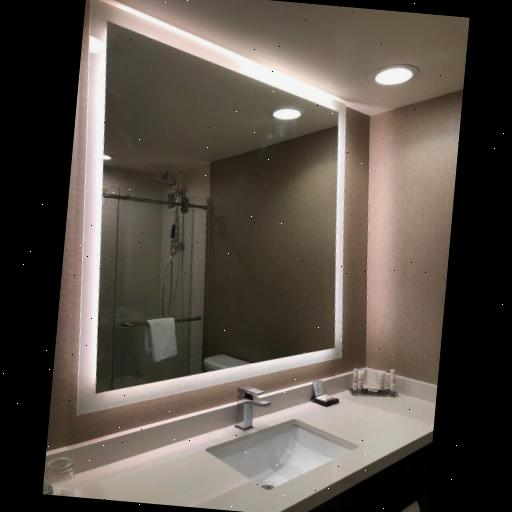clean_sink: (38, 360, 437, 512)
folded_towel: (142, 311, 182, 366)
